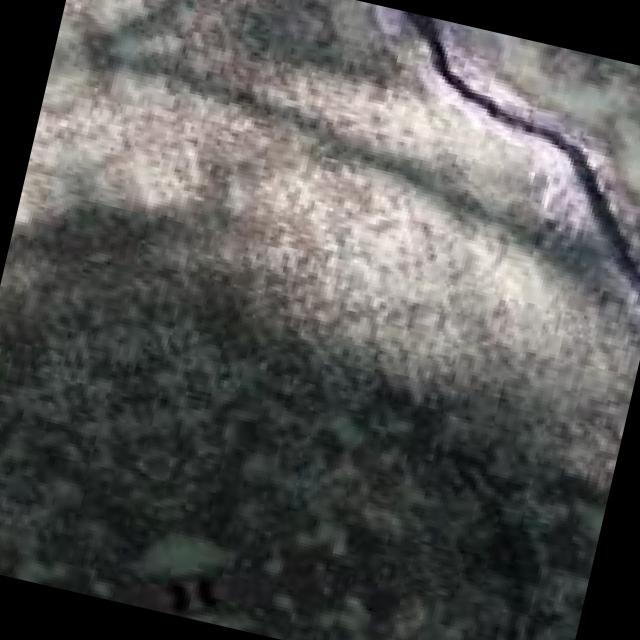crack: (296, 1, 640, 359)
